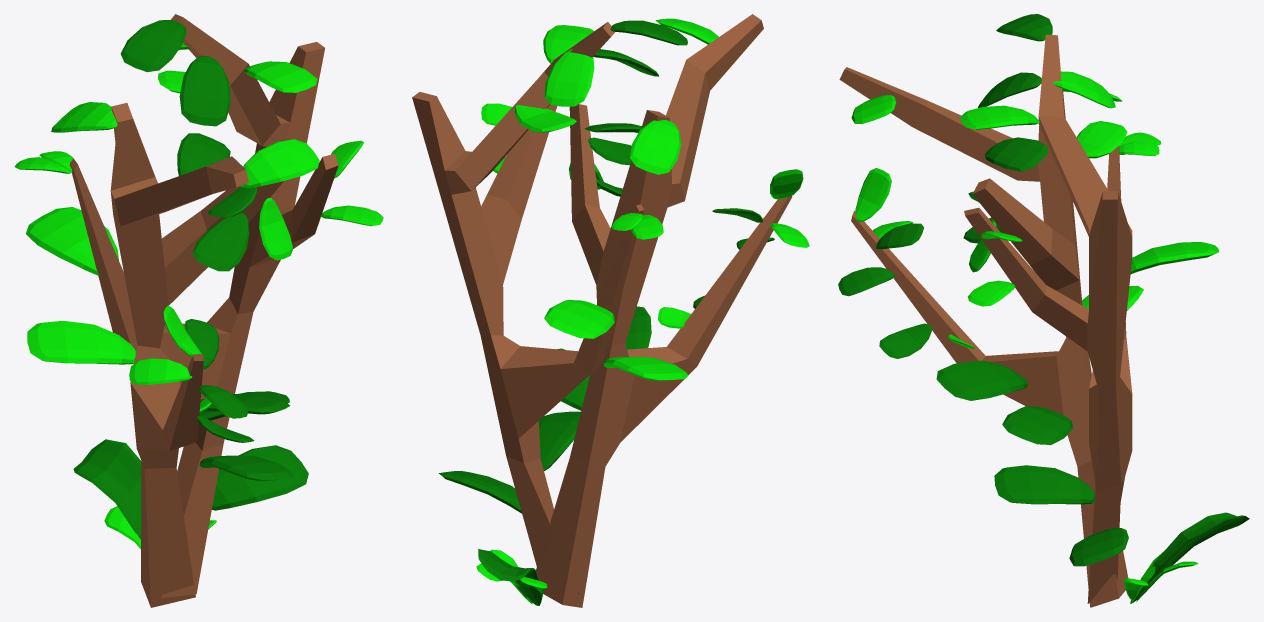
Rendered from Bush-1.fbx.
3 views of the same model, side by side, from view 1: azimuth 30°, elevation 25°; view 2: azimuth 150°, elevation 25°; view 3: azimuth 270°, elevation 25° (orthographic). The views are drawn at different scales.
Visible parts, largest first — view 1: MainBranch.003, MainBranch.002, Leaf.063, Leaf.059, Leaf.060, Leaf.050, Leaf.064, Leaf.038, Leaf.068, Leaf.048, Leaf.061, Leaf.052 (+14 smaller); view 2: MainBranch.003, MainBranch.002, Leaf.039, Leaf.053, Leaf.064, Leaf.061, Leaf.063, Leaf.059, Leaf.060, Leaf.051, Leaf.052, Leaf.068 (+8 smaller); view 3: MainBranch.002, MainBranch.003, Leaf.061, Leaf.062, Leaf.065, Leaf.059, Leaf.067, Leaf.064, Leaf.060, Leaf.052, Leaf.051, Leaf.044 (+8 smaller).
Boxes of the visible parts, bbox=[...] form: MainBranch.003: bbox=[110, 103, 283, 607]; MainBranch.002: bbox=[69, 14, 338, 597]; Leaf.063: bbox=[27, 320, 136, 364]; Leaf.059: bbox=[73, 439, 141, 539]; Leaf.060: bbox=[212, 445, 308, 510]; Leaf.050: bbox=[179, 55, 230, 126]; Leaf.064: bbox=[25, 207, 118, 275]; Leaf.038: bbox=[240, 139, 319, 188]; Leaf.068: bbox=[120, 20, 186, 72]; Leaf.048: bbox=[192, 212, 249, 271]; Leaf.061: bbox=[199, 455, 293, 480]; Leaf.052: bbox=[244, 61, 317, 92]; MainBranch.003: bbox=[536, 14, 792, 607]; MainBranch.002: bbox=[412, 22, 644, 594]; Leaf.039: bbox=[630, 120, 681, 174]; Leaf.053: bbox=[544, 49, 594, 106]; Leaf.064: bbox=[544, 300, 614, 338]; Leaf.061: bbox=[538, 411, 580, 470]; Leaf.063: bbox=[603, 357, 688, 380]; Leaf.059: bbox=[478, 549, 541, 605]; Leaf.060: bbox=[439, 471, 521, 513]; Leaf.051: bbox=[515, 105, 576, 132]; Leaf.052: bbox=[543, 25, 594, 63]; Leaf.068: bbox=[610, 20, 687, 45]; MainBranch.002: bbox=[964, 34, 1132, 603]; MainBranch.003: bbox=[839, 67, 1128, 607]; Leaf.061: bbox=[994, 465, 1094, 504]; Leaf.062: bbox=[936, 360, 1027, 400]; Leaf.065: bbox=[1002, 406, 1072, 445]; Leaf.059: bbox=[1133, 512, 1249, 602]; Leaf.067: bbox=[985, 137, 1047, 171]; Leaf.064: bbox=[1130, 242, 1218, 273]; Leaf.060: bbox=[1069, 527, 1128, 566]; Leaf.052: bbox=[960, 105, 1039, 129]; Leaf.051: bbox=[1076, 121, 1127, 158]; Leaf.044: bbox=[855, 168, 891, 222].
Bounding box in the file's own units: 895 × 1132 × 1705.
